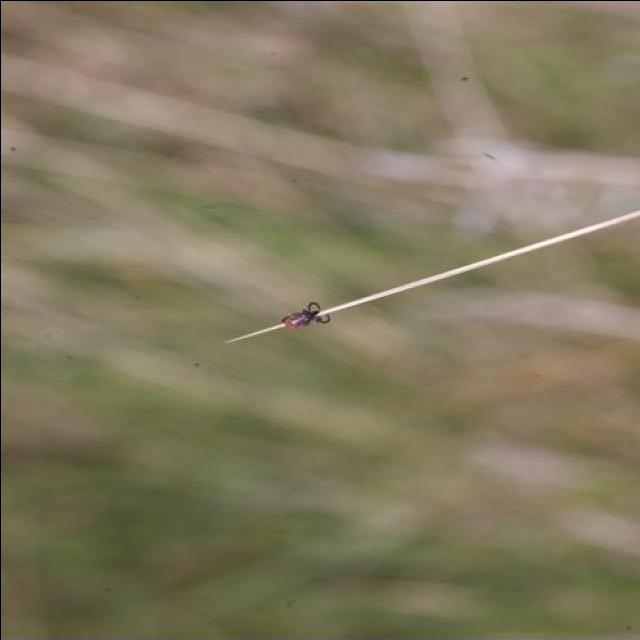Ixodes Ricinus-F: (258, 302, 331, 332)
